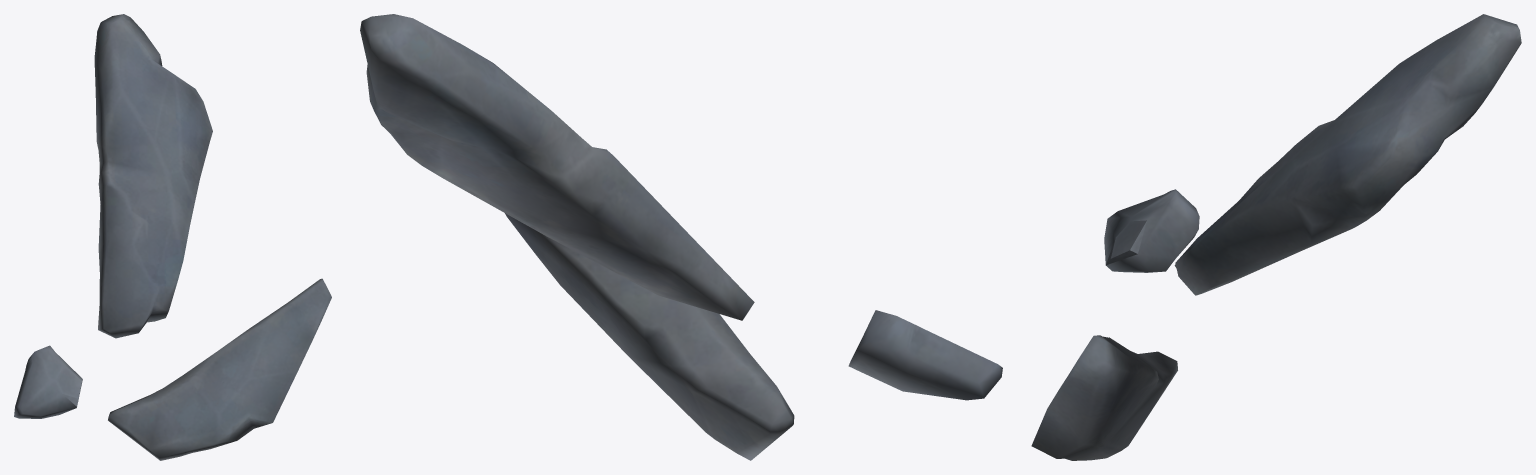
File: Battle_yiciyuankongjian_xiaoshitou_02_fbx.fbx
The picture shows the model from 3 angles, left to right: view 1: azimuth 30°, elevation 25°; view 2: azimuth 150°, elevation 25°; view 3: azimuth 270°, elevation 25°; orthographic projection. The views are drawn at different scales.
Visible parts, largest first — view 1: Battle_yiciyuankongjian_xiaoshitou_02_fbx; view 2: Battle_yiciyuankongjian_xiaoshitou_02_fbx; view 3: Battle_yiciyuankongjian_xiaoshitou_02_fbx.
Part boxes in pixels (<box>): Battle_yiciyuankongjian_xiaoshitou_02_fbx: <box>14,14,331,460</box>; Battle_yiciyuankongjian_xiaoshitou_02_fbx: <box>360,14,1002,460</box>; Battle_yiciyuankongjian_xiaoshitou_02_fbx: <box>1031,14,1521,460</box>.
Size of the model in its own units: 1076 by 1110 by 1011.
